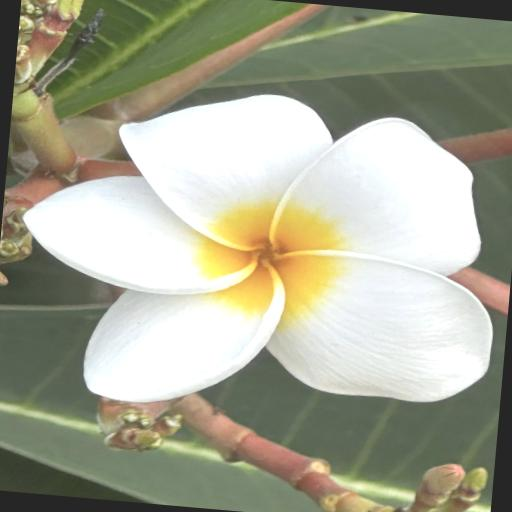Frangipani: (17, 91, 499, 411)
